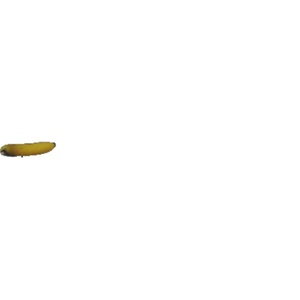banana: (2, 137, 56, 162)
